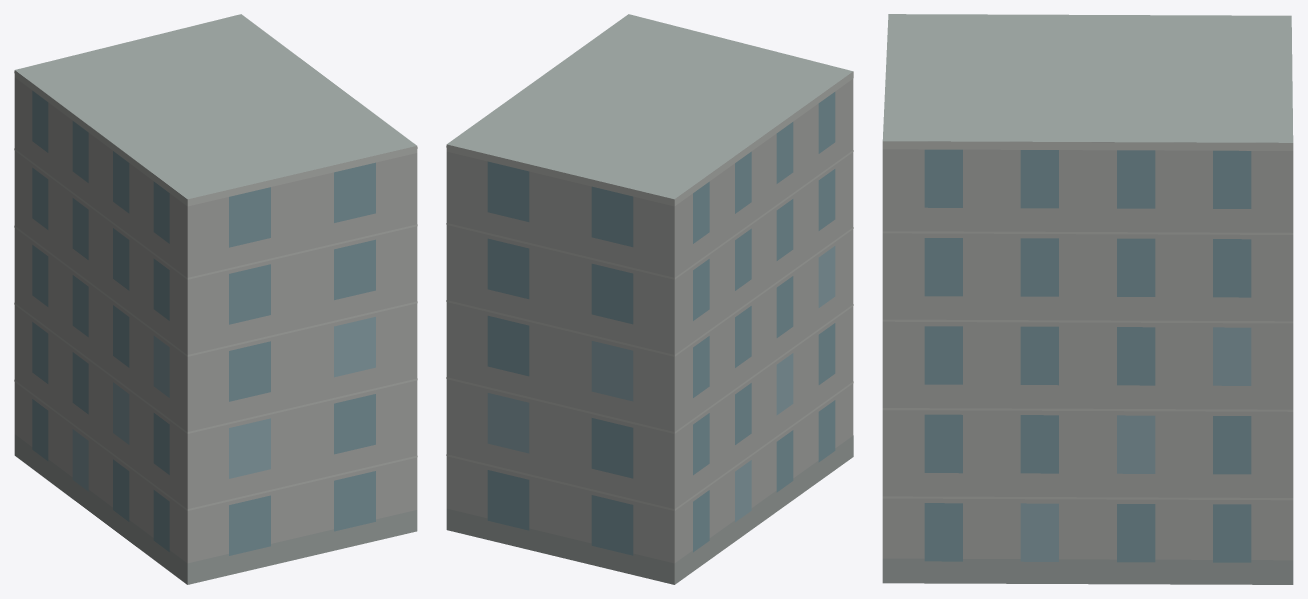
Rendered from survey-upis-33020414.glb.
The picture shows the model from 3 angles, left to right: view 1: azimuth 30°, elevation 25°; view 2: azimuth 150°, elevation 25°; view 3: azimuth 270°, elevation 25°; orthographic projection. The views are drawn at different scales.
Visible parts, largest first — view 1: survey-upis-33020414.tmp; view 2: survey-upis-33020414.tmp; view 3: survey-upis-33020414.tmp.
Part boxes in pixels (x1,y1,x2,y2): survey-upis-33020414.tmp: (14,14,417,584); survey-upis-33020414.tmp: (446,14,853,584); survey-upis-33020414.tmp: (882,14,1293,584).
Bounding box in the file's own units: 8.28 × 13.2 × 11.14.
